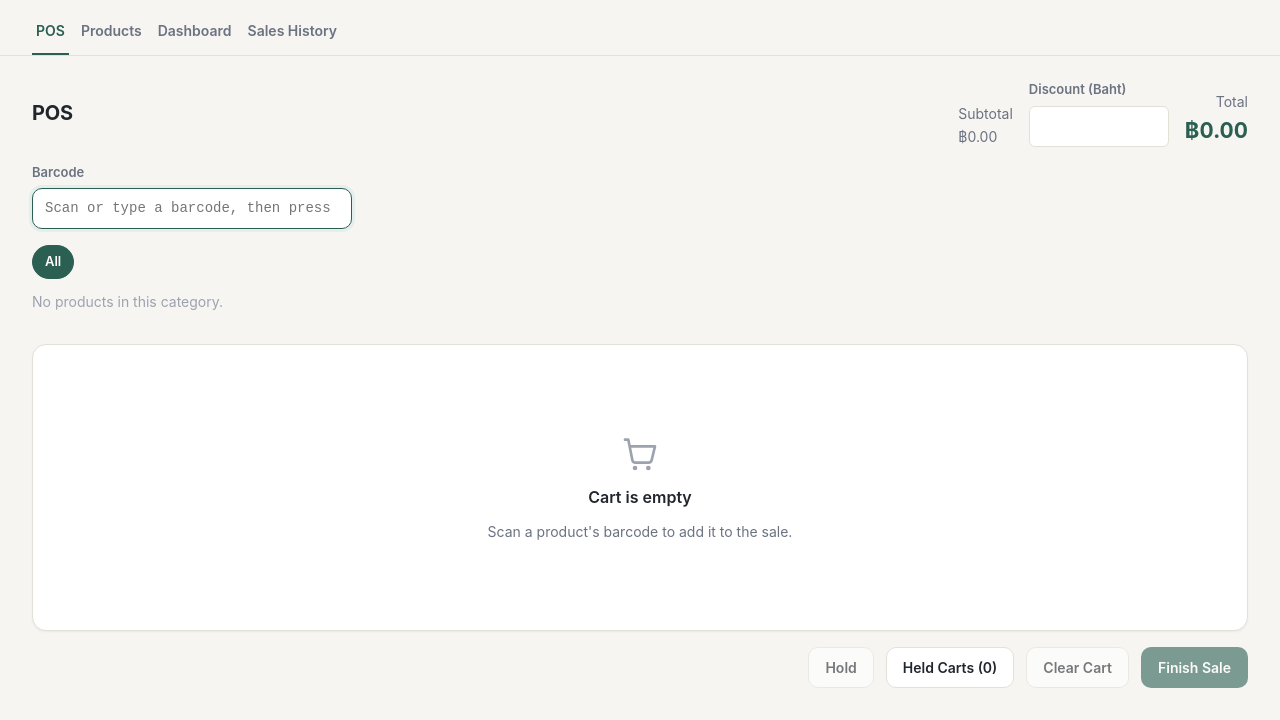
Test: App › switches to the Sales History screen when its tab is clicked
Click the button "Sales History" at coordinates (292, 34), box x1=244 y1=12 x2=341 y2=55
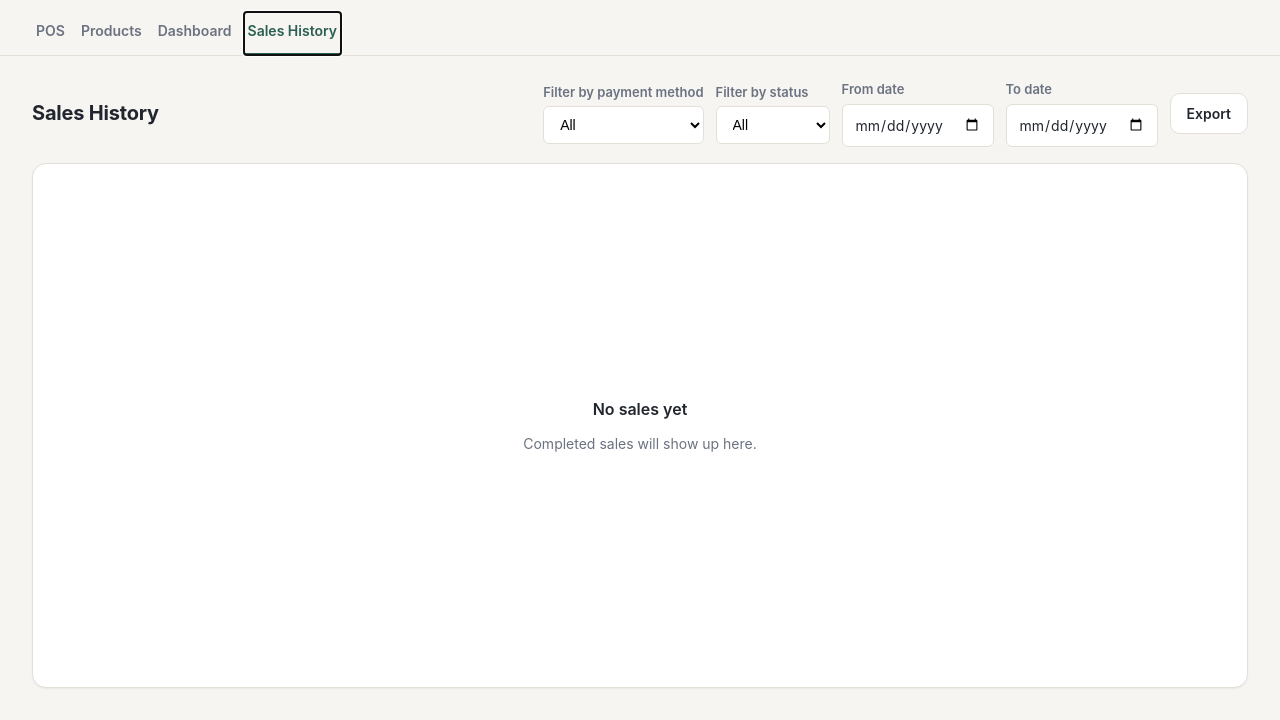
Check: the heading "No sales yet" is shown, box x1=593 y1=397 x2=687 y2=421
